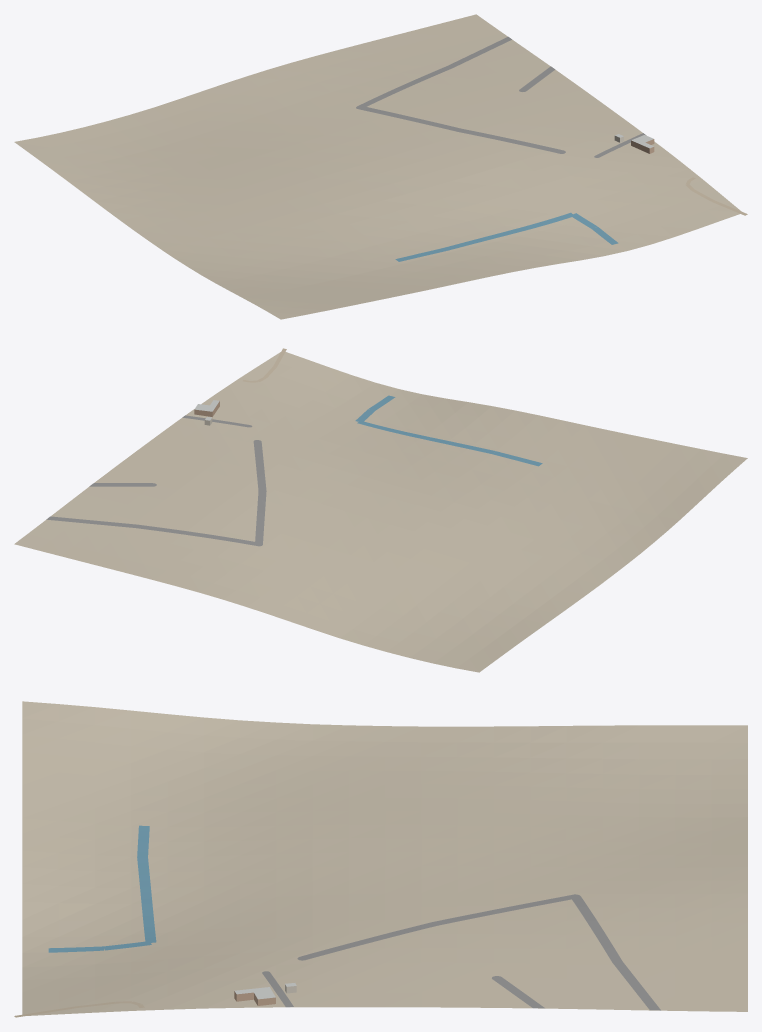
Rendered from bolak_-22_3.glb.
3 views of the same model, one above another, from view 1: azimuth 30°, elevation 25°; view 2: azimuth 150°, elevation 25°; view 3: azimuth 270°, elevation 25° (orthographic). The views are drawn at different scales.
Parts seen in each view (by area): view 1: Yer_Tuproq-col, Yol_Mahalla-col, Suv; view 2: Yer_Tuproq-col, Yol_Mahalla-col, Suv; view 3: Yer_Tuproq-col, Yol_Mahalla-col, Suv.
Boxes of the visible parts, x1,y1,x2,y2 form: Yer_Tuproq-col: (14,14,741,319); Yol_Mahalla-col: (356,36,645,157); Suv: (395,212,618,261); Yer_Tuproq-col: (14,352,747,672); Yol_Mahalla-col: (46,415,266,546); Suv: (355,395,542,466); Yer_Tuproq-col: (22,701,747,1015); Yol_Mahalla-col: (262,894,660,1010); Suv: (48,825,156,952).
Size of what is drawn, in the model's own units: 402 by 20.99 by 405.
